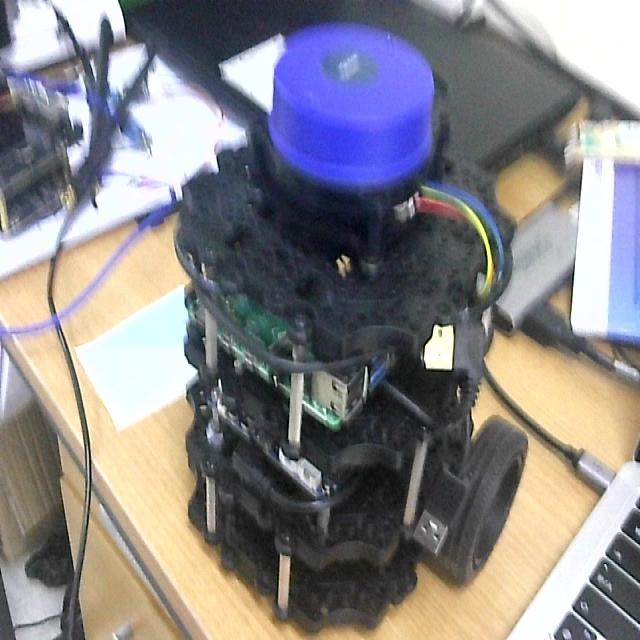turtle: (174, 22, 530, 640)
